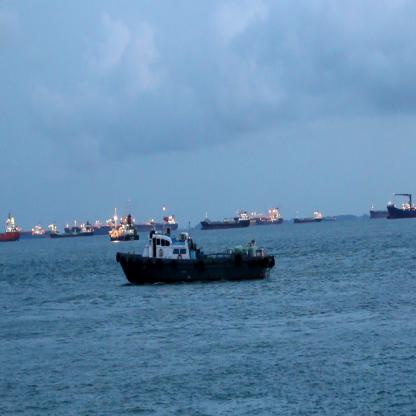Container Ship: (116, 222, 277, 288), (63, 197, 178, 235), (108, 208, 140, 242), (200, 207, 249, 229), (292, 197, 323, 225), (47, 219, 94, 237), (386, 192, 415, 220), (248, 206, 283, 226), (0, 211, 20, 242), (19, 220, 47, 238), (369, 204, 388, 220)
